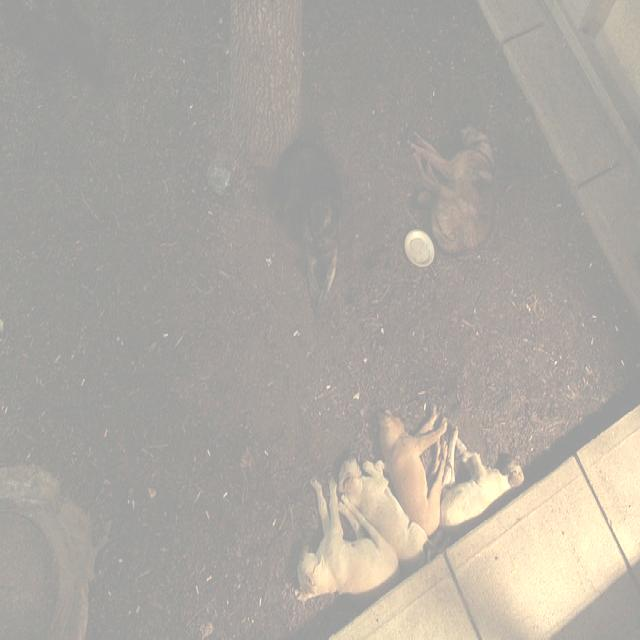Dog: (275, 295, 499, 613)
